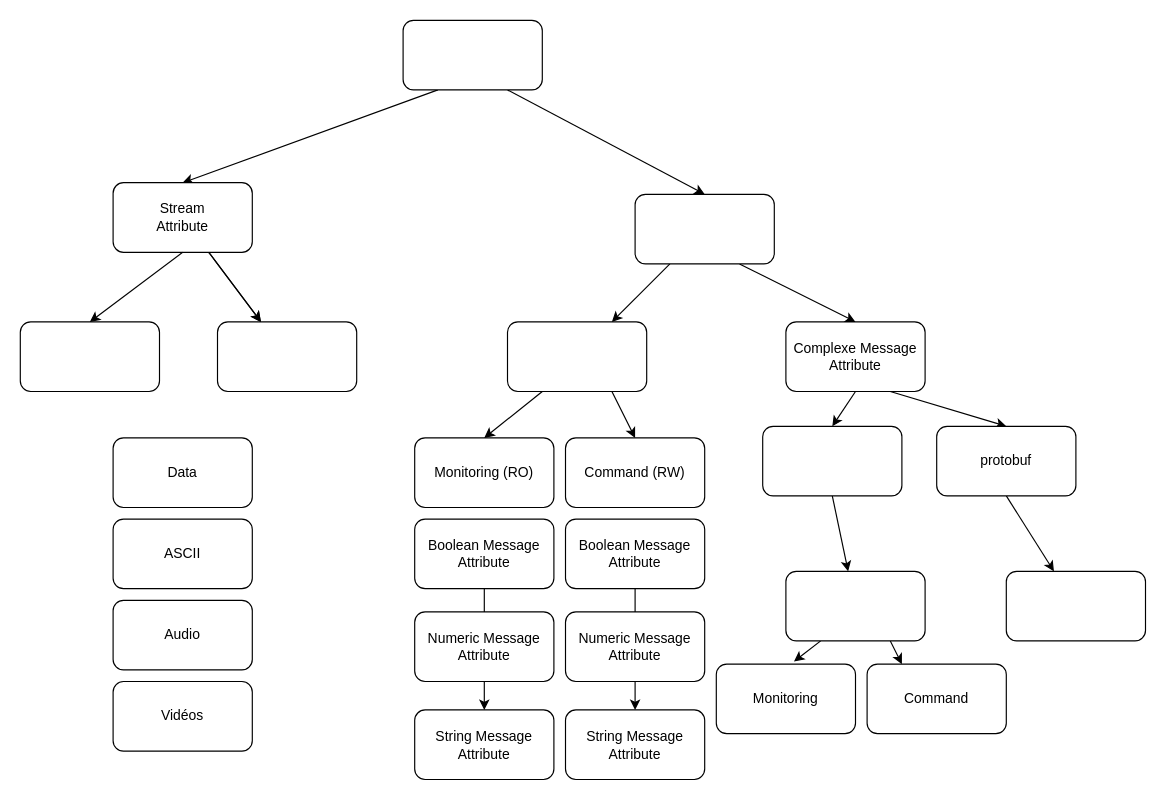
The diagram is 1166 pixels wide and 800 high, and some of its shapes have lost their labels. Here are the shapes that lost their labels. From the top down, the centre of each, then its label:
At (x=472, y=54): "Attribute".
At (x=704, y=228): "Message Attribute".
At (x=89, y=356): "Monitoring Stream Attribute".
At (x=286, y=356): "Command Stream Attribute".
At (x=576, y=356): "Basic Message Attribute".
At (x=832, y=460): "json".
At (x=855, y=605): "SI".
At (x=1075, y=605): "Memory".
